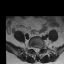CCS_normal: (35, 46, 38, 53)
LFS_normal: (40, 45, 42, 50)
LLS_normal: (38, 46, 39, 53)
RFS_normal: (31, 45, 33, 50)
RLS_normal: (33, 46, 35, 52)
